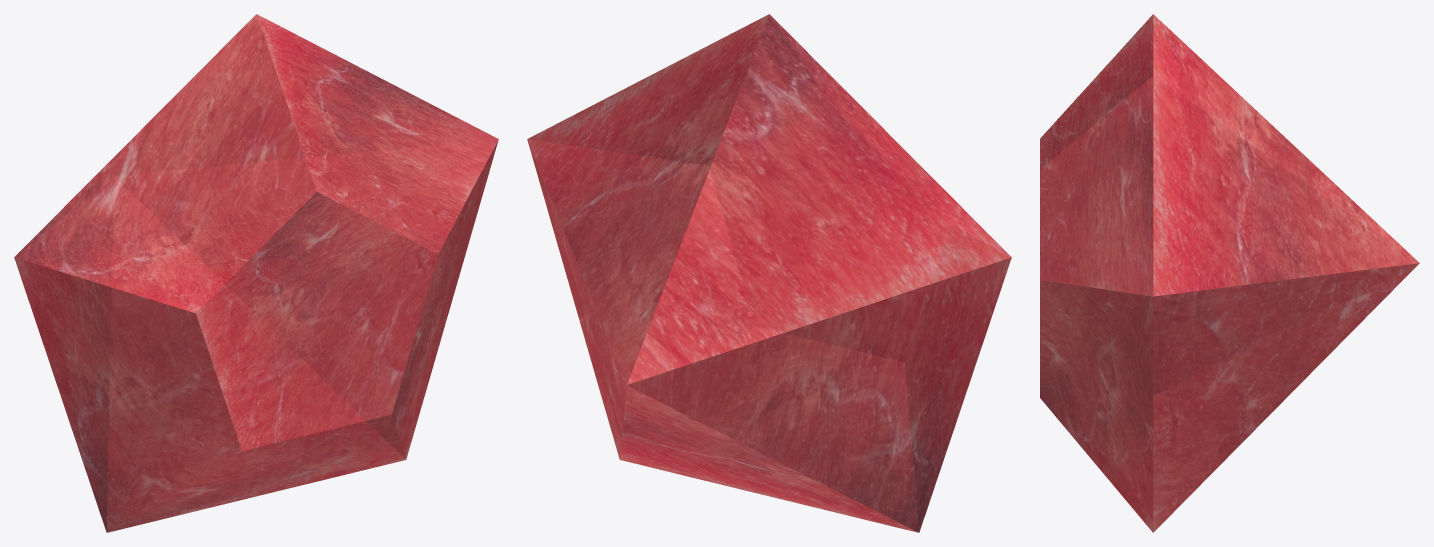
File: PentagonalPrism.obj
3 renders of one model, left to right at view 1: azimuth 30°, elevation 25°; view 2: azimuth 150°, elevation 25°; view 3: azimuth 270°, elevation 25°, orthographic. The views are drawn at different scales.
Size of the model in its own units: 1.62 by 1.54 by 1.17.
Materials: 1 (1 with a texture image).
